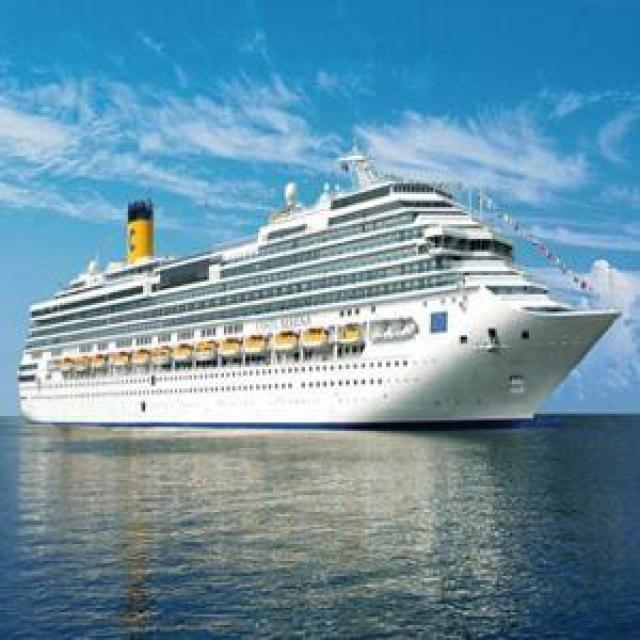passenger ship: (20, 142, 617, 430)
